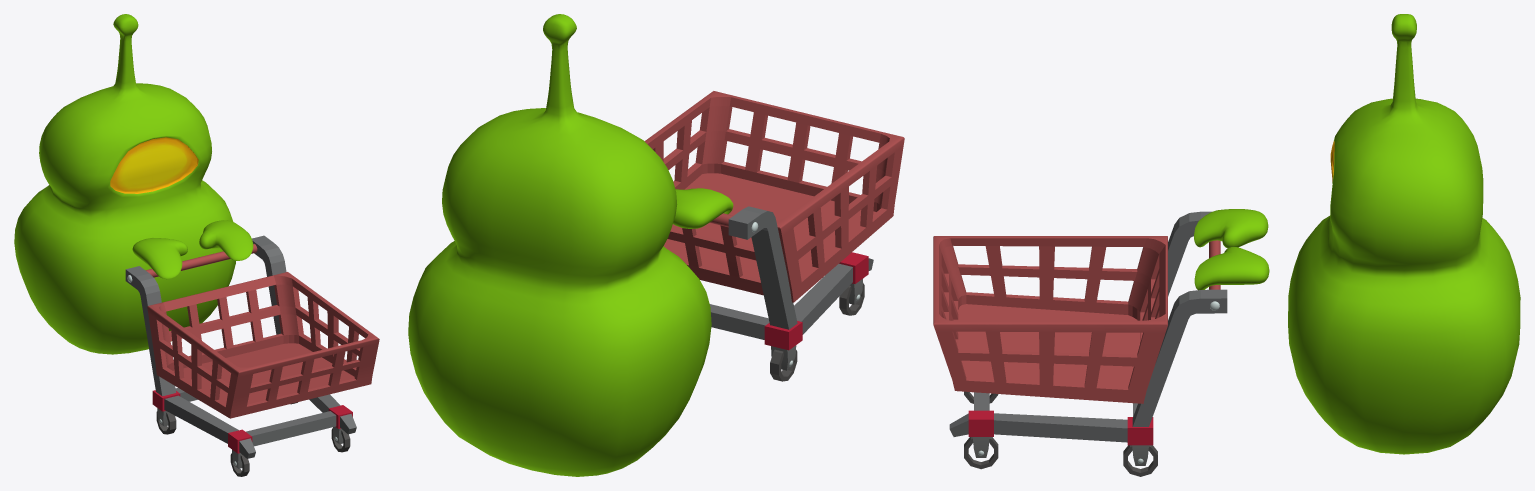
Rendered from Alien1_WthCart.fbx.
The picture shows the model from 3 angles, left to right: view 1: azimuth 30°, elevation 25°; view 2: azimuth 150°, elevation 25°; view 3: azimuth 270°, elevation 25°; orthographic projection. The views are drawn at different scales.
Visible parts, largest first — view 1: polySurface113; view 2: polySurface113; view 3: polySurface113.
Boxes of the visible parts, x1,y1,x2,y2 form: polySurface113: (14, 14, 379, 476); polySurface113: (408, 14, 904, 476); polySurface113: (933, 14, 1520, 476).
Bounding box in the file's own units: 1.32 × 2.24 × 2.83.
8 materials, 3 textured.
